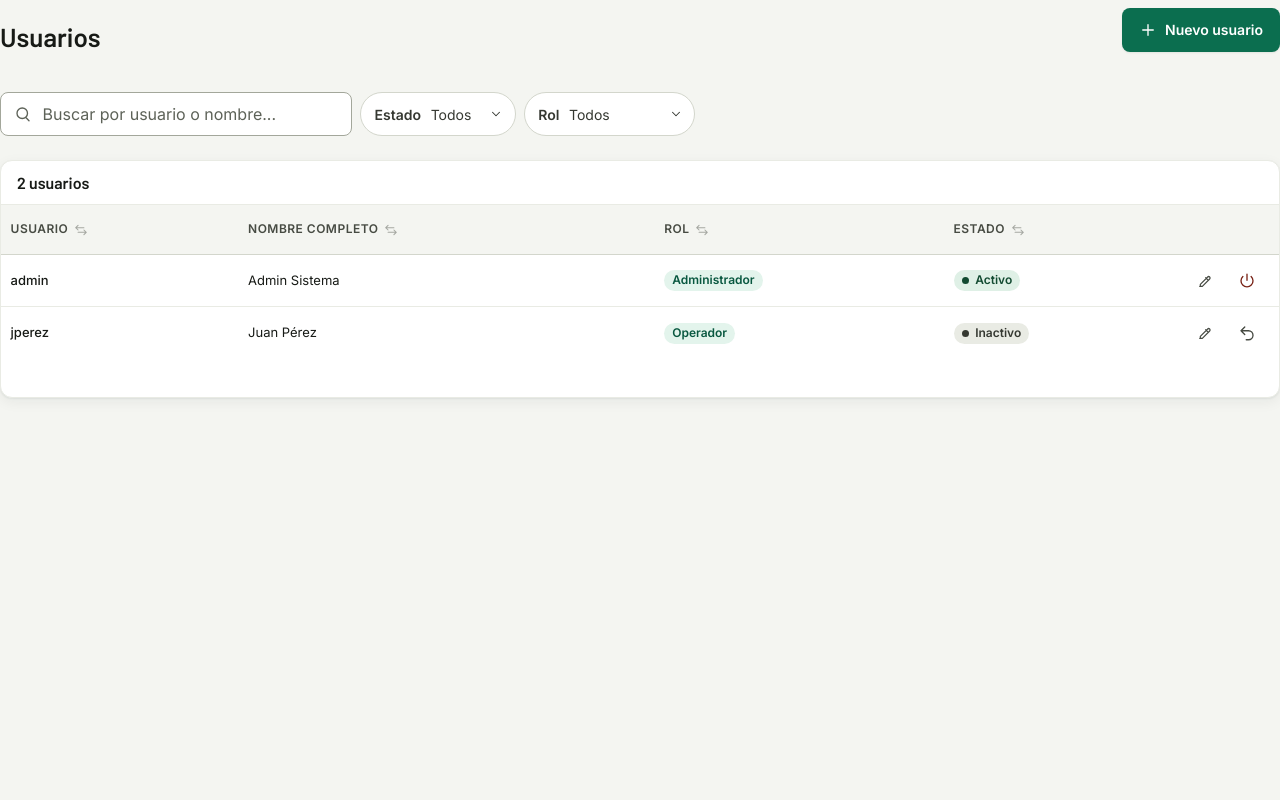
UsuariosPage › desactiva un usuario activo desde la tabla y refleja el nuevo estado
Check: the text "admin" is shown, box [1,255,238,307]
Click the button named "desactivar" at (1247, 281), box [1225,259,1269,303]
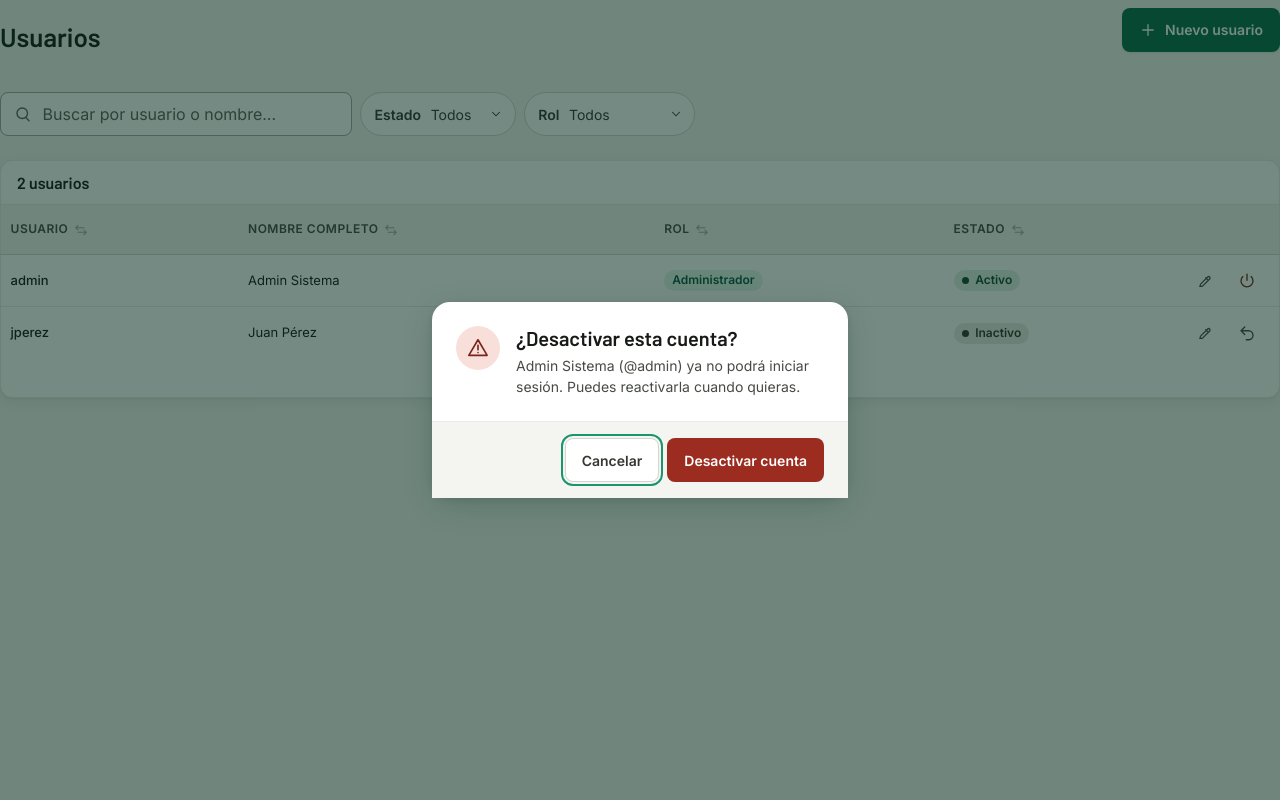
Click the button "Desactivar cuenta" at (746, 460), box [667,438,824,482]
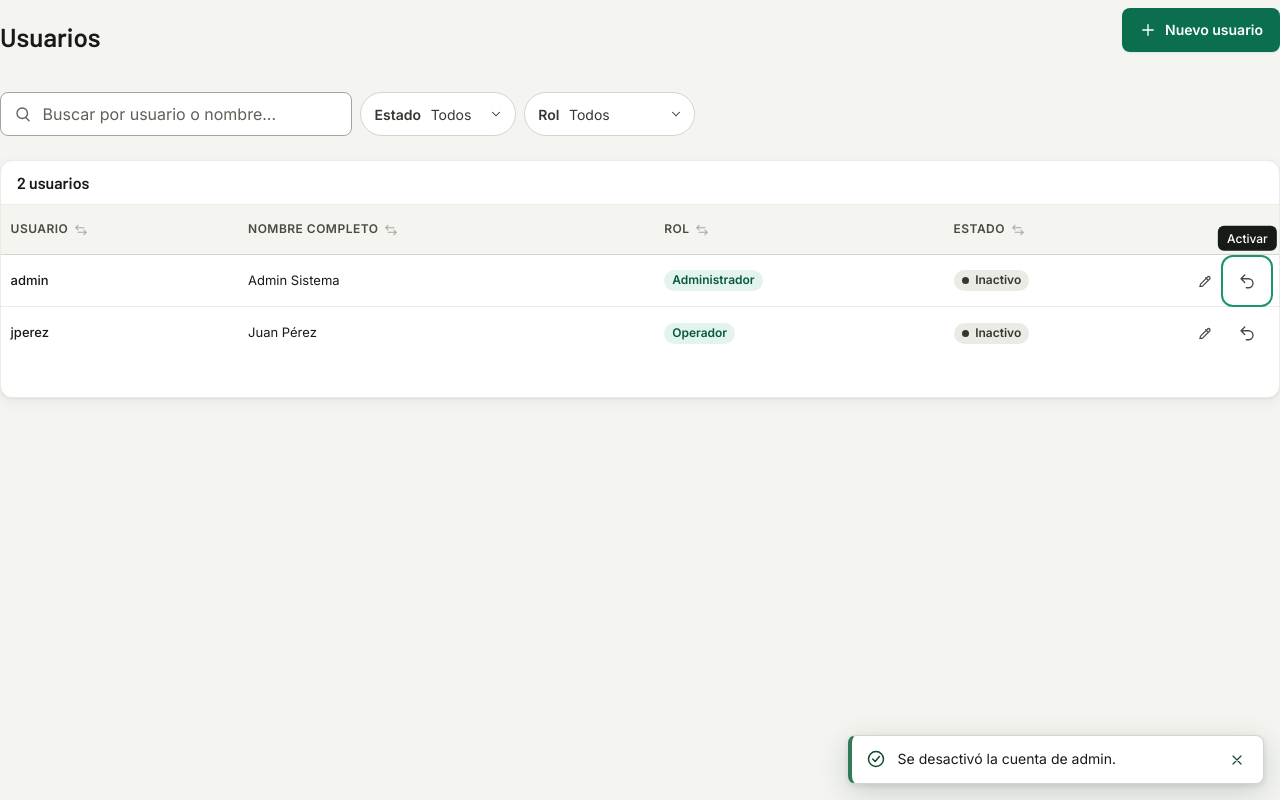
Check: the text "Inactivo" is shown, box [954,270,1029,291]
Check: the message shows "Se desactivó la cuenta de admin", box [898,750,1116,767]
